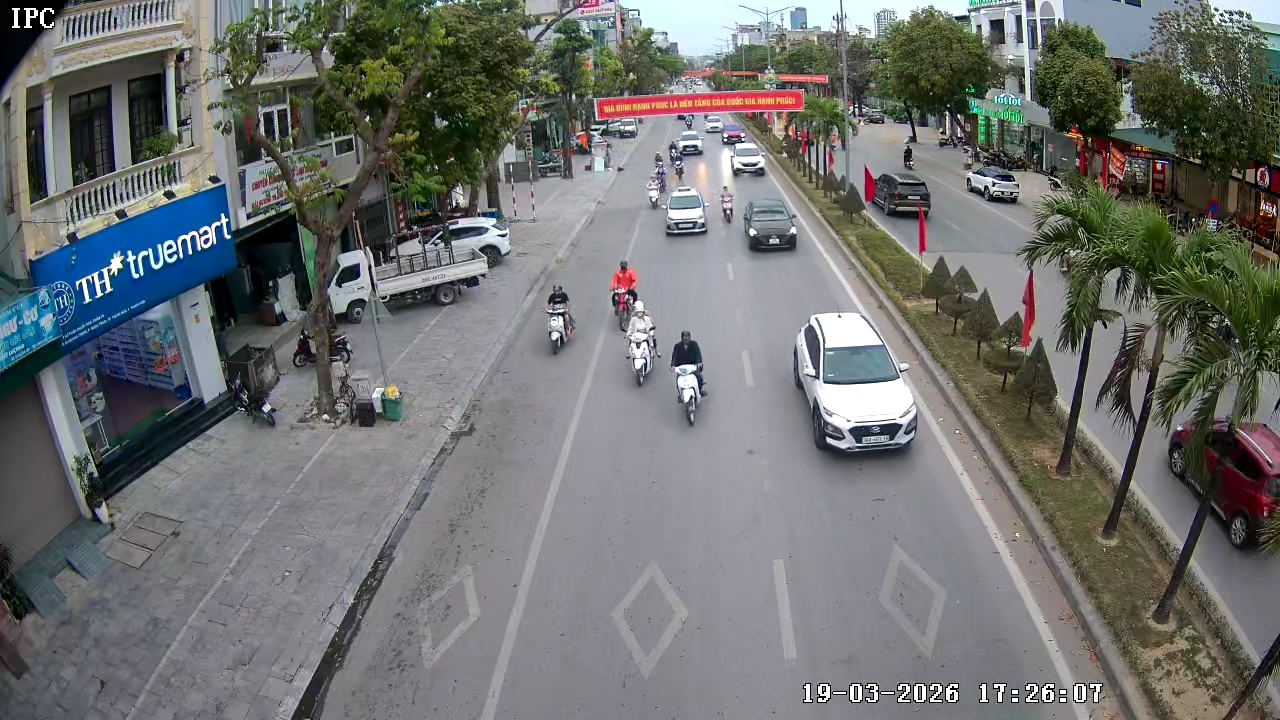car: (792, 310, 920, 453), (864, 165, 933, 219), (742, 195, 799, 254), (964, 161, 1022, 205), (663, 186, 710, 238), (730, 140, 767, 176), (680, 127, 705, 157)
motorbike: (668, 328, 710, 427), (624, 300, 660, 388), (543, 282, 577, 355), (608, 258, 640, 333), (645, 169, 664, 211), (718, 181, 735, 224), (670, 146, 685, 181)
